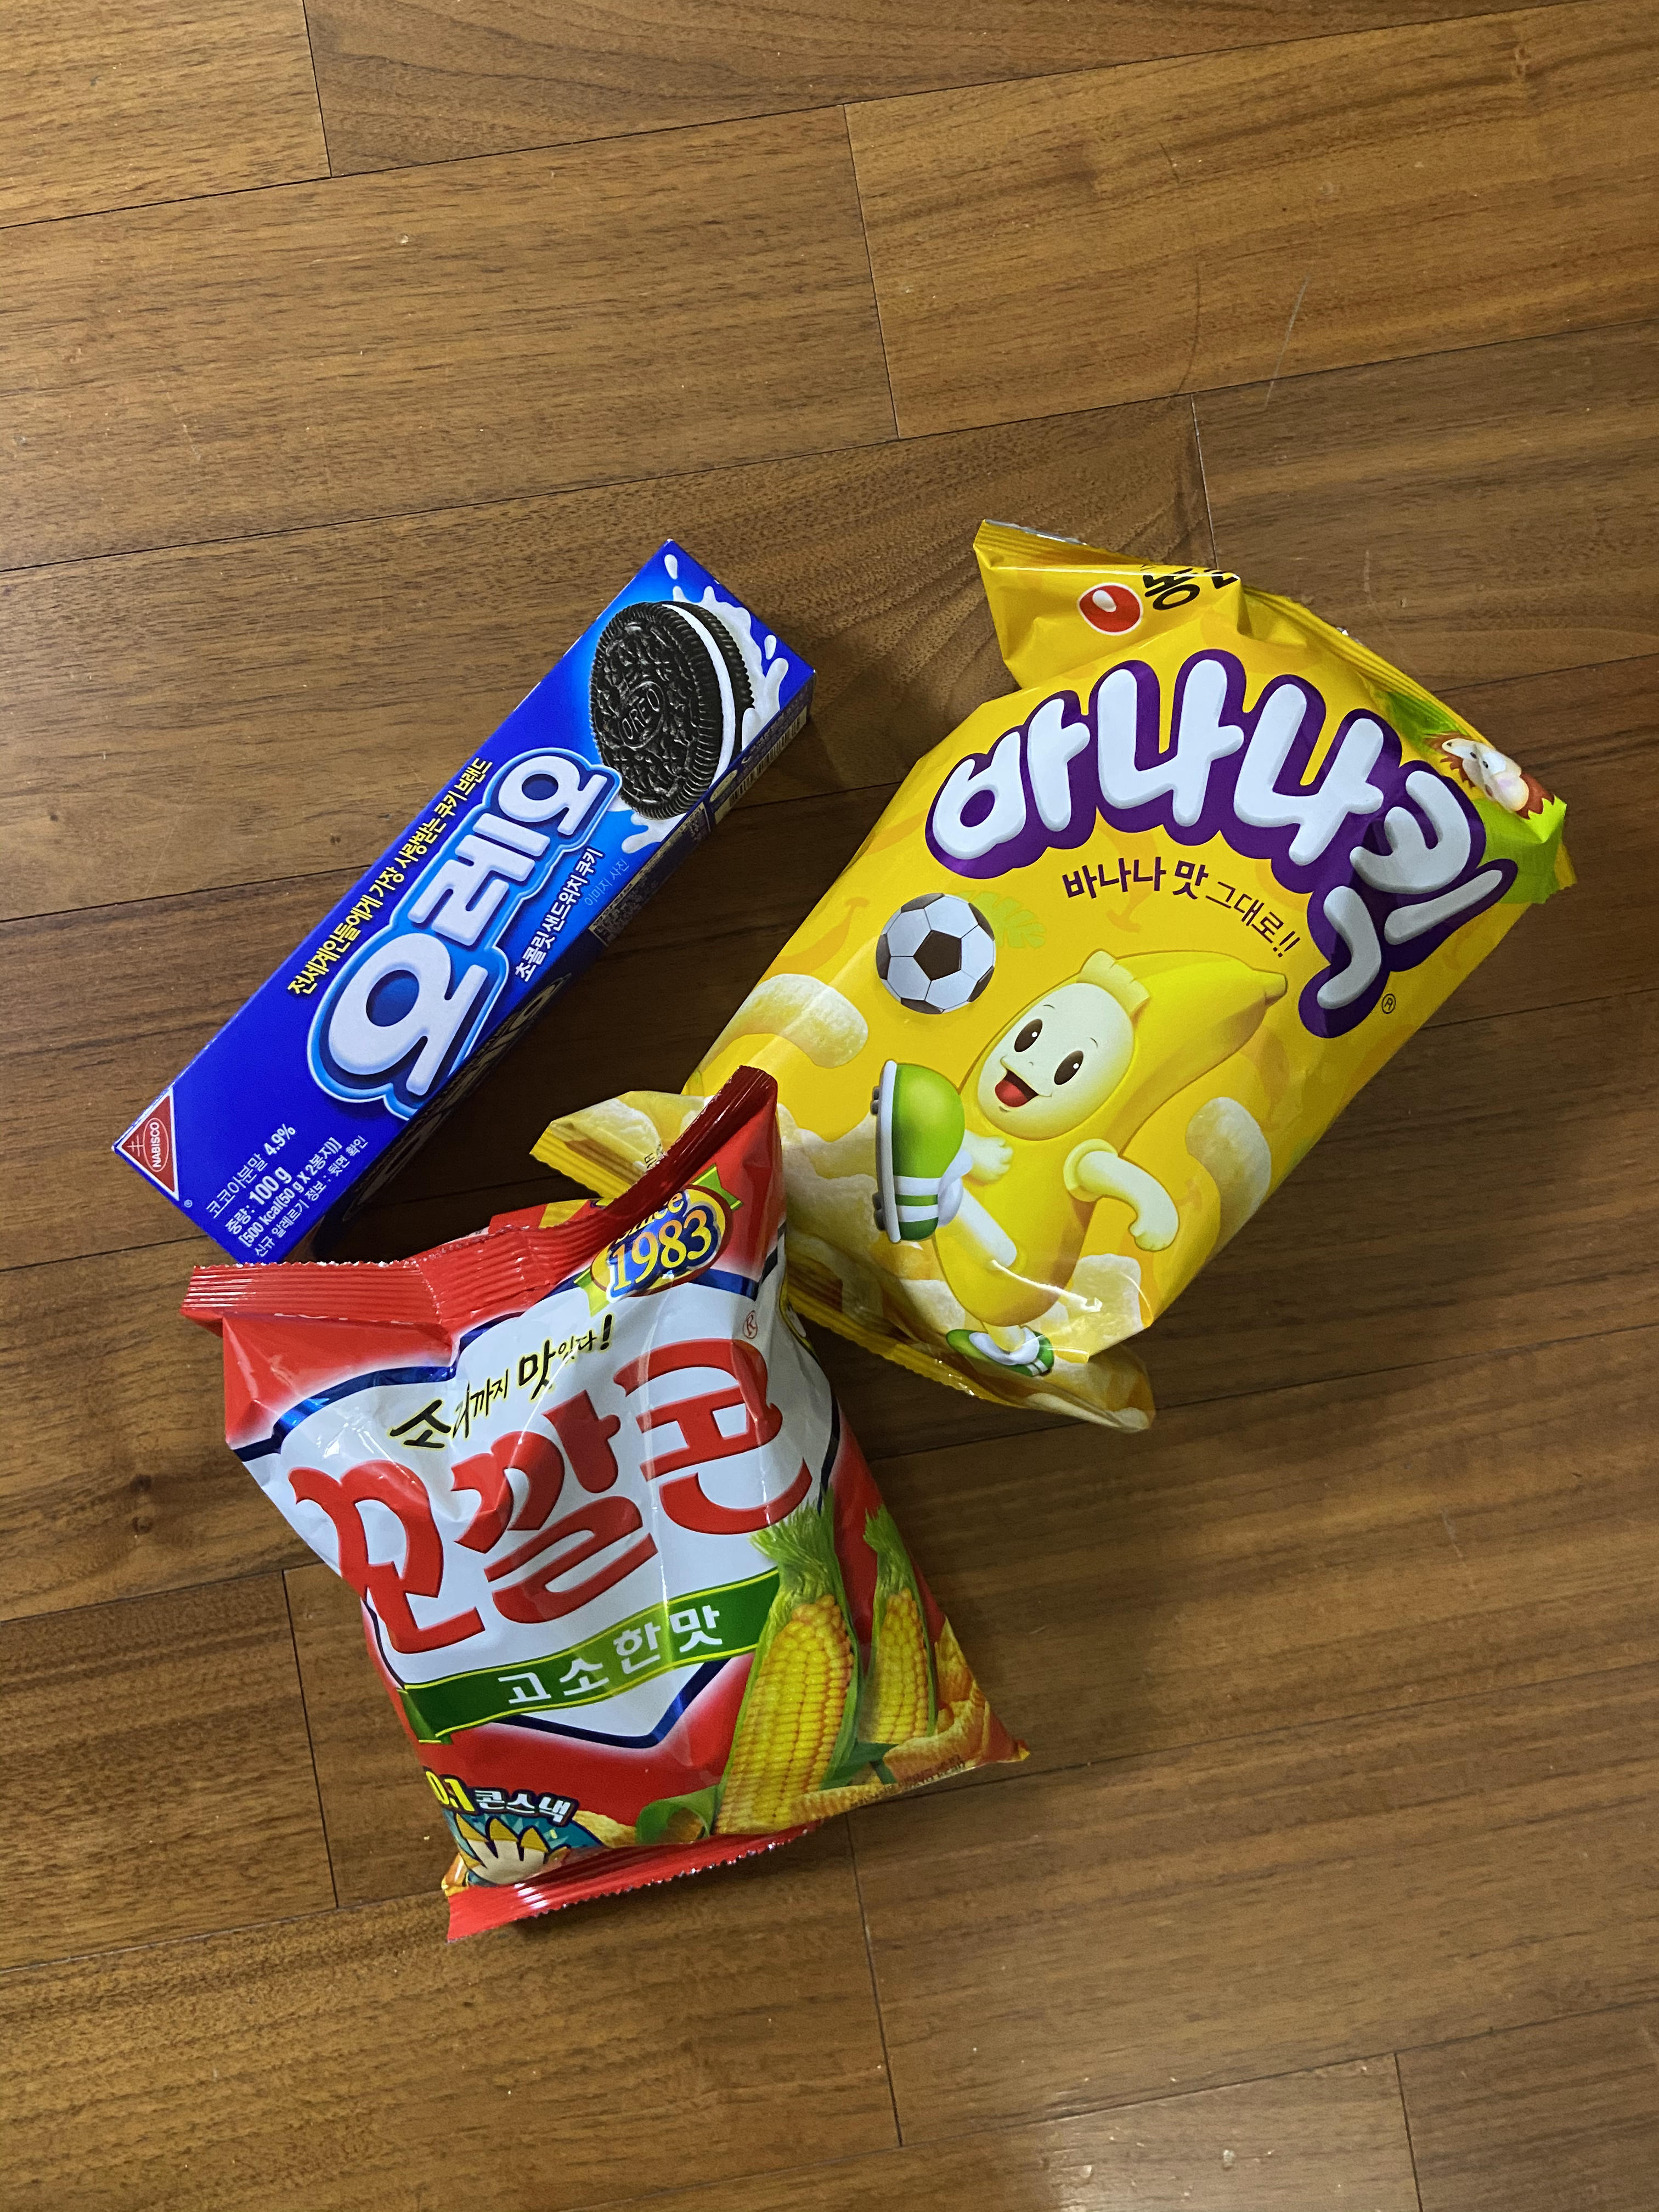banana: (511, 496, 1598, 1468)
ggoggalcon: (155, 1055, 1058, 1975)
oreo: (94, 526, 840, 1306)
